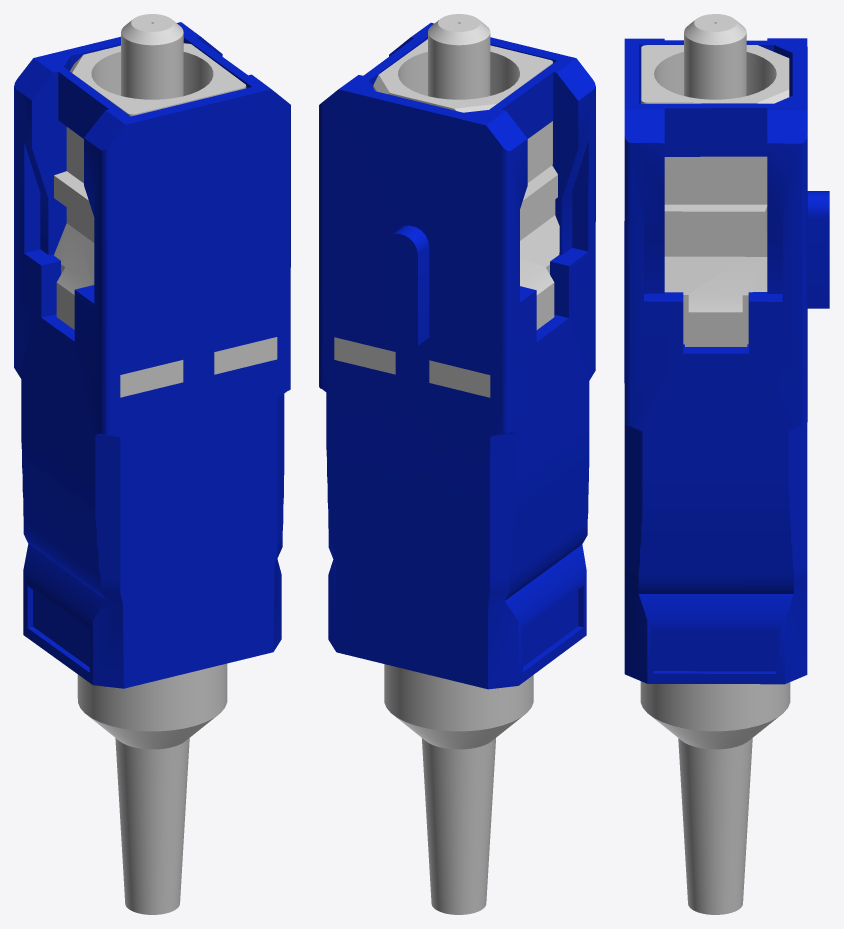
File: SC Connector_LP.fbx
3 views of the same model, side by side, from view 1: azimuth 30°, elevation 25°; view 2: azimuth 150°, elevation 25°; view 3: azimuth 270°, elevation 25° (orthographic).
Visible parts, largest first — view 1: SC_Connector_LP; view 2: SC_Connector_LP; view 3: SC_Connector_LP.
Part boxes in pixels (bbox=[...]): SC_Connector_LP: bbox=[14, 14, 290, 914]; SC_Connector_LP: bbox=[319, 14, 595, 914]; SC_Connector_LP: bbox=[624, 14, 829, 914].
Size of the model in its own units: 0.4299 by 1.89 by 0.4003.
